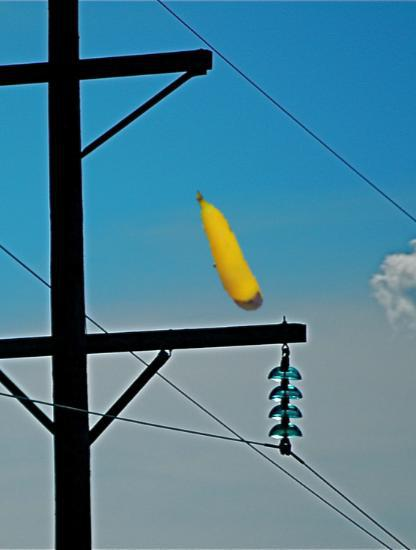Banana: (157, 182, 295, 320)
